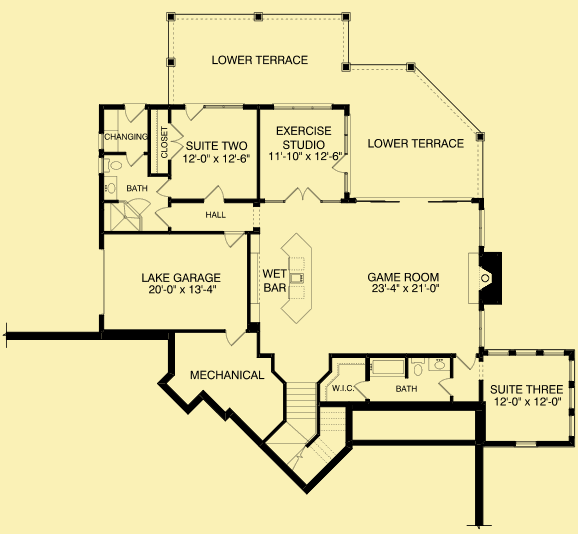door: (282, 184, 325, 206), (166, 119, 188, 161), (124, 195, 154, 217), (204, 181, 229, 207), (122, 103, 151, 125), (122, 150, 148, 172), (182, 99, 206, 121), (223, 329, 248, 348), (328, 152, 348, 175), (223, 231, 244, 252), (352, 379, 368, 401), (437, 378, 454, 398)
kitchen_bar: (277, 230, 318, 327)
large_sink: (407, 357, 429, 381), (101, 156, 121, 175)
small_sink: (427, 357, 451, 374), (103, 175, 117, 200)
stairs: (267, 380, 350, 486)
tub: (369, 358, 407, 378)
window: (270, 100, 335, 115), (476, 306, 487, 348), (478, 207, 488, 249), (510, 439, 538, 450)
